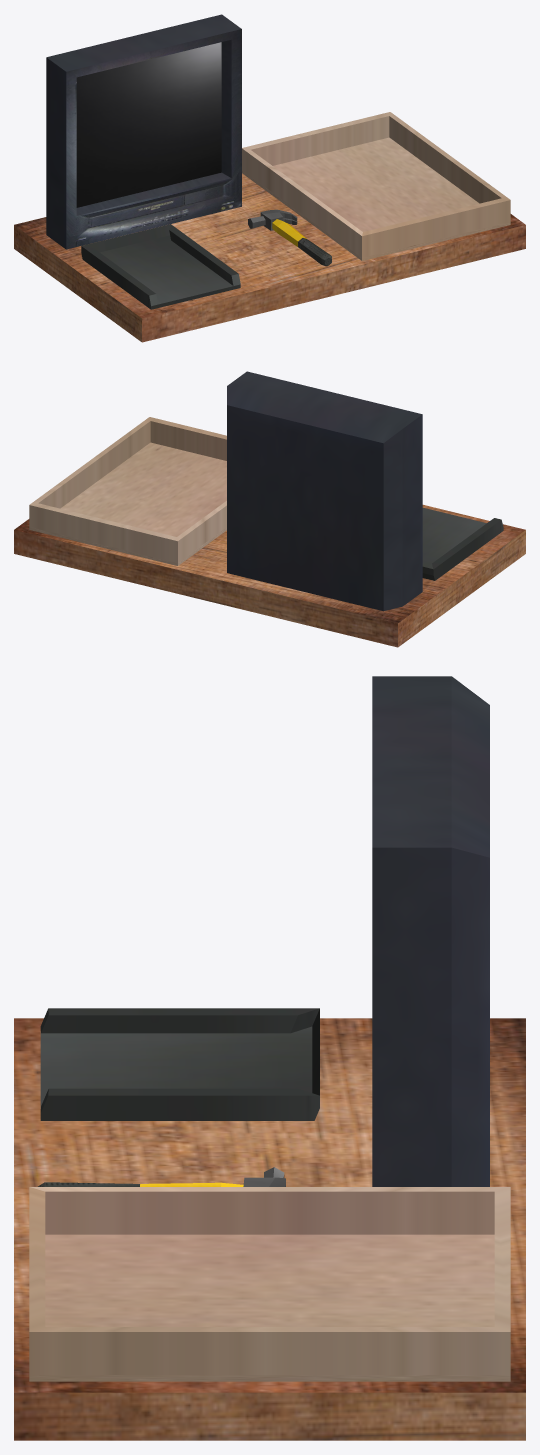
File: CraftingMesa.glb
3 renders of one model, top to bottom at view 1: azimuth 30°, elevation 25°; view 2: azimuth 150°, elevation 25°; view 3: azimuth 270°, elevation 25°, orthographic. The views are drawn at different scales.
Parts seen in each view (by area): view 1: Cube.005; view 2: Cube.005; view 3: Cube.005.
Boxes of the visible parts, x1,y1,x2,y2 form: Cube.005: (14,14,525,342); Cube.005: (14,371,525,647); Cube.005: (14,676,525,1440).
Bounding box in the file's own units: 10.7 × 5.37 × 6.18.
2 materials, 2 textured.
